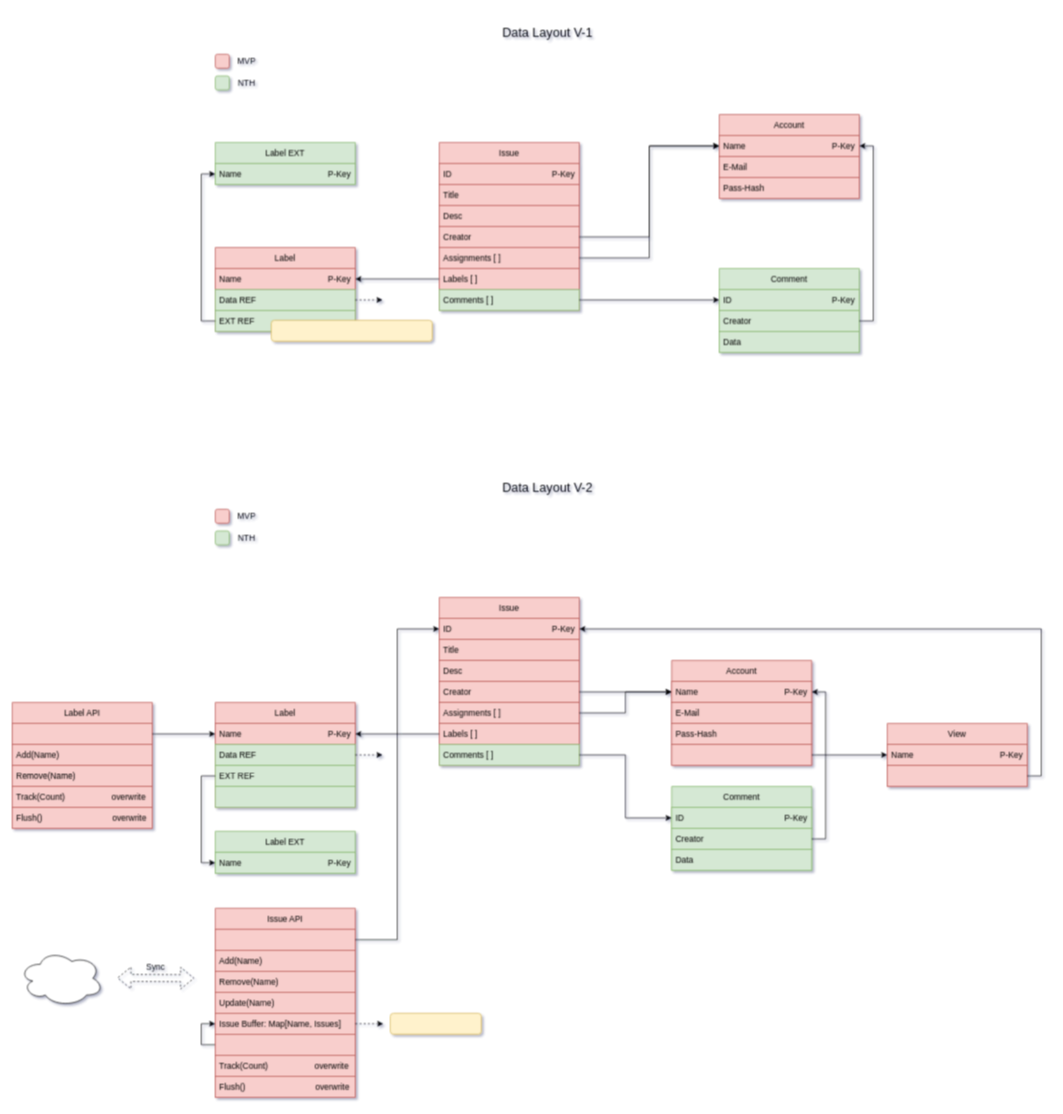
The diagram is 1063 pixels wide and 1114 high, and some of its shapes have lost their labels. Each missing label, with the centre of its shape:
"Filter(Name, Labels[])" goes at point 285,1044.
"fOPT" goes at point 285,796.
"IO OP's (e.g. DB)" goes at point 61,978.
"Issues [ ]" goes at point 957,775.
"Issues []" goes at point 285,939.
"Labels []" goes at point 82,733.
"TODO: add fOPT to filter data specifically" goes at point 351,330.
"Used for Filter" goes at point 435,1023.
"Views []" goes at point 741,754.
